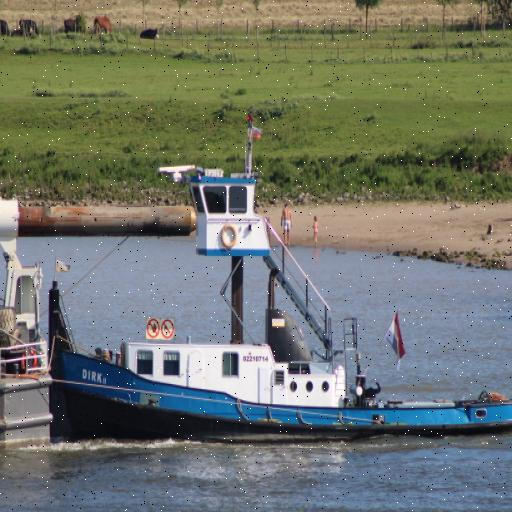tugboat: (45, 159, 512, 450)
